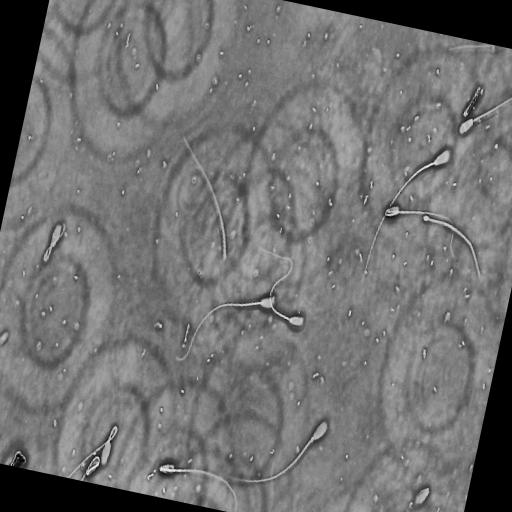coiled-tail: (41, 218, 65, 262), (43, 224, 65, 261), (83, 454, 101, 478), (87, 456, 99, 472)
folded-tail: (385, 209, 455, 257), (161, 467, 236, 507), (67, 424, 117, 476), (109, 428, 114, 438)
loose-head: (412, 485, 431, 509)
loose-tail: (178, 126, 230, 263), (420, 212, 484, 283)
normal: (357, 145, 453, 288), (226, 417, 330, 487), (173, 294, 279, 362), (247, 240, 306, 329), (382, 202, 459, 263), (154, 458, 238, 510), (64, 417, 121, 478), (455, 92, 512, 137)
